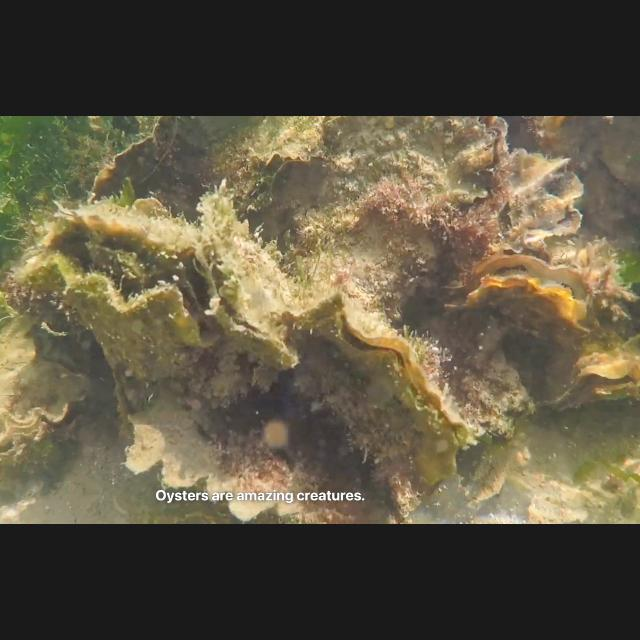Oyster-Closed: (85, 116, 185, 192)
Oyster-Open: (308, 116, 506, 322), (12, 193, 222, 374), (278, 278, 464, 476), (194, 182, 296, 362), (440, 248, 588, 346), (0, 350, 94, 464), (493, 141, 583, 247), (230, 116, 326, 204), (534, 344, 640, 410), (112, 368, 142, 442)
